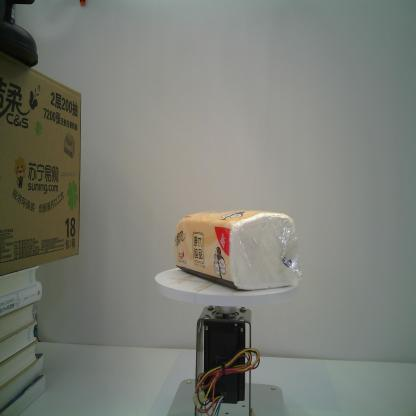Tissue: (172, 207, 301, 294)
